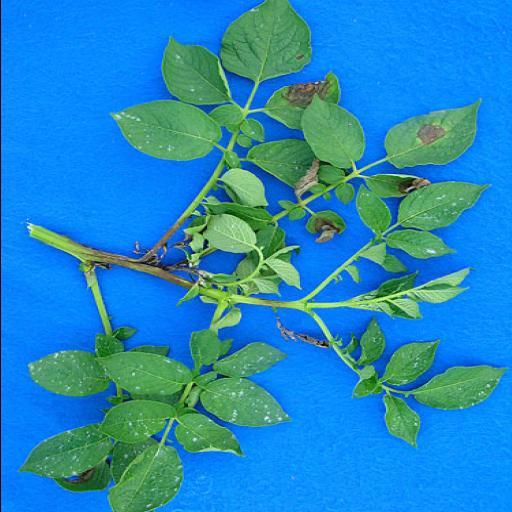Late Blight: (381, 95, 485, 171), (258, 69, 342, 133)
